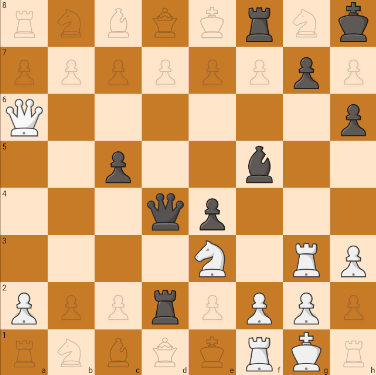bb: (241, 145, 277, 186)
bk: (332, 1, 375, 45)
bp: (288, 330, 329, 373), (98, 142, 138, 186), (193, 190, 233, 233), (335, 98, 373, 140), (289, 48, 323, 92)
bq: (146, 192, 186, 233)
br: (145, 284, 187, 327), (238, 2, 280, 45)
wn: (191, 237, 230, 281)
wp: (2, 284, 45, 328), (239, 284, 279, 326), (287, 286, 326, 327)
wq: (2, 97, 46, 139)
wr: (288, 239, 325, 280), (335, 240, 371, 281), (242, 331, 277, 373)
